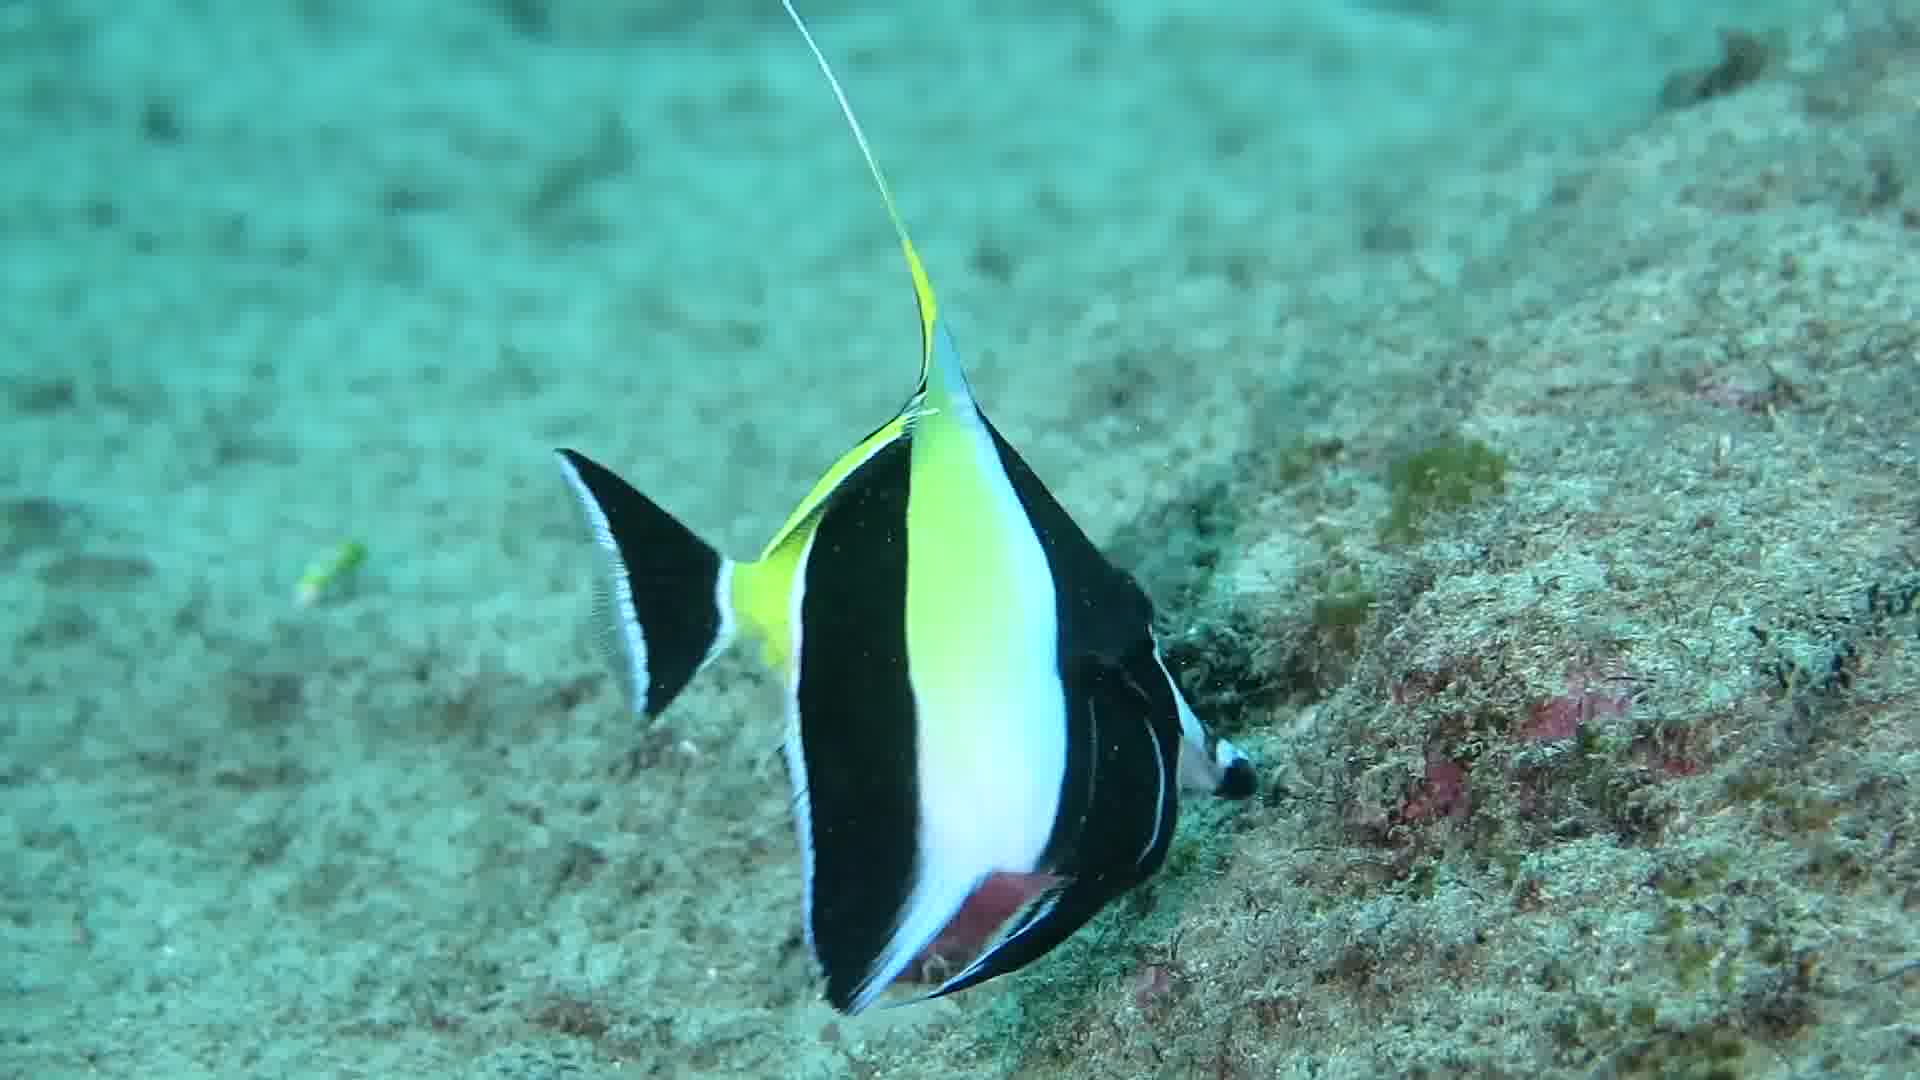Zanclus cornutus: (562, 278, 1332, 1044)
